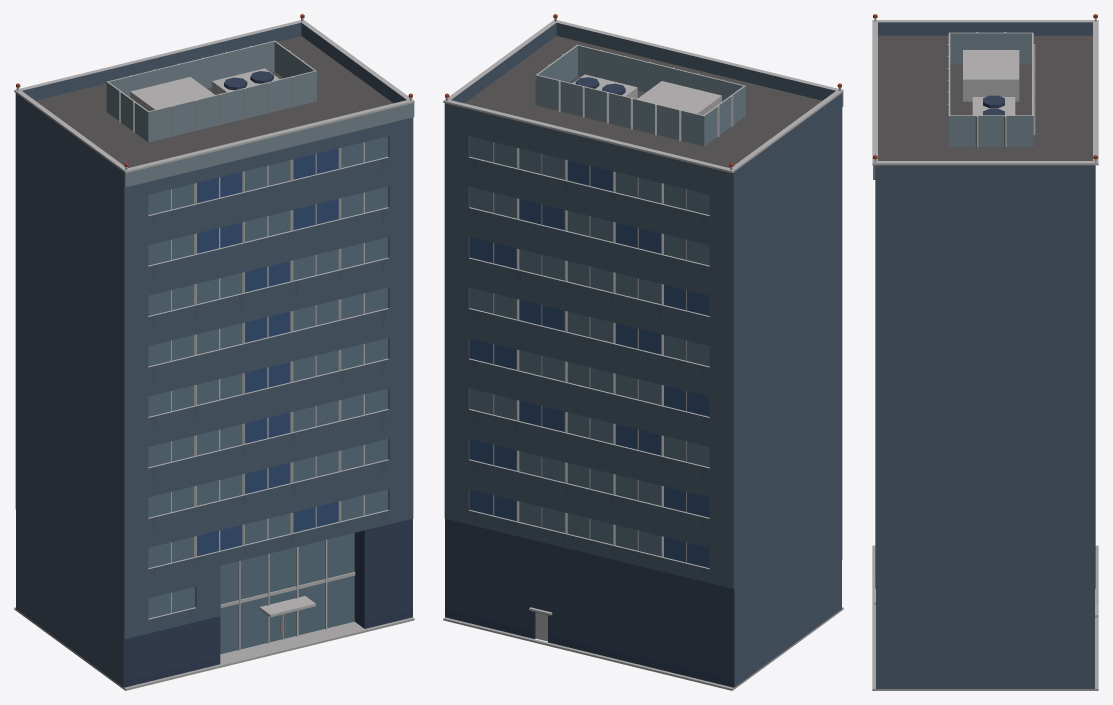
Rendered from airport-hotel-1a1e0a.glb.
The picture shows the model from 3 angles, left to right: view 1: azimuth 30°, elevation 25°; view 2: azimuth 150°, elevation 25°; view 3: azimuth 270°, elevation 25°; orthographic projection.
Visible parts, largest first — view 1: airport-hotel-body; view 2: airport-hotel-body; view 3: airport-hotel-body.
Boxes of the visible parts, box(x1,y1,x2,y2) form: airport-hotel-body: box(14, 14, 414, 690); airport-hotel-body: box(443, 14, 843, 690); airport-hotel-body: box(872, 14, 1098, 690).
Bounding box in the file's own units: 24 × 42.55 × 16.
